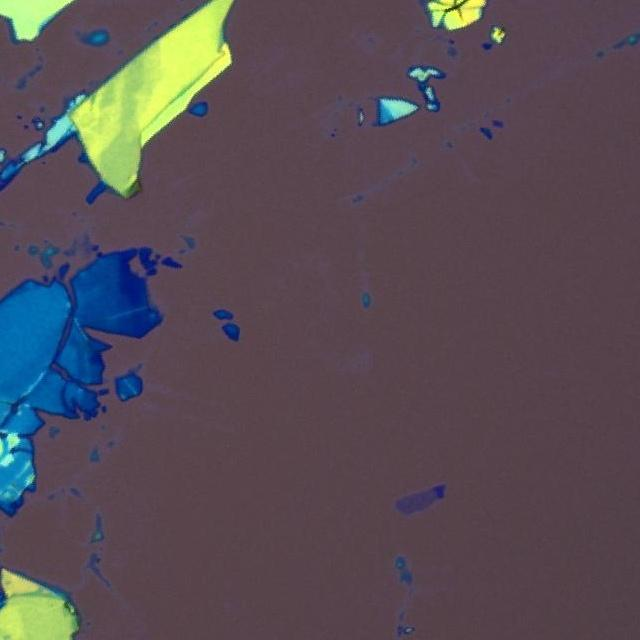monolayer-eWW4: (394, 488, 436, 516)
